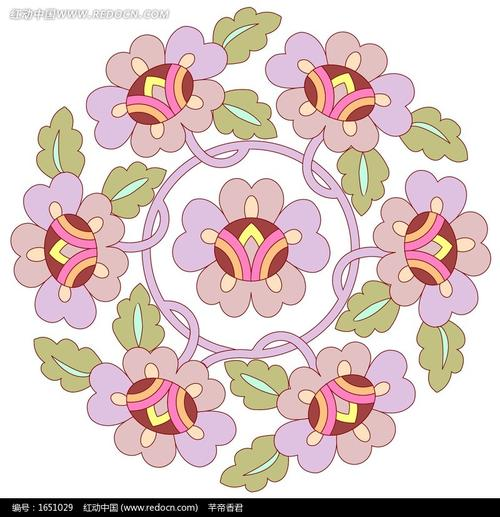ImgView: (1, 1, 499, 516)
